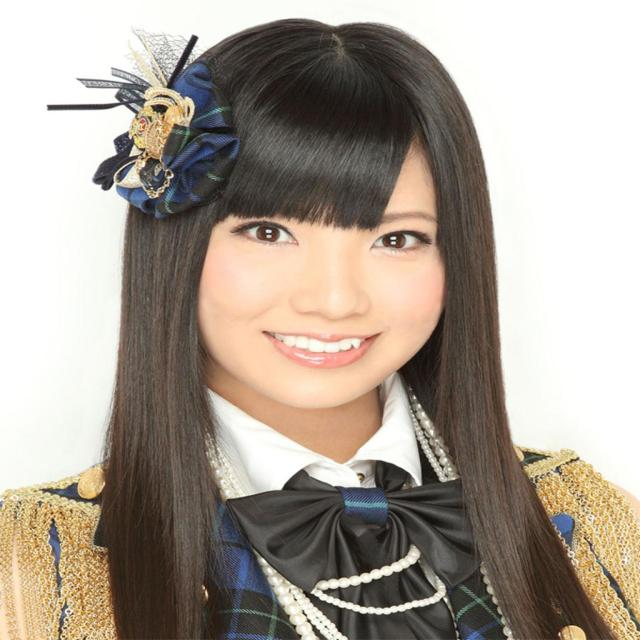Face: (142, 84, 463, 406)
